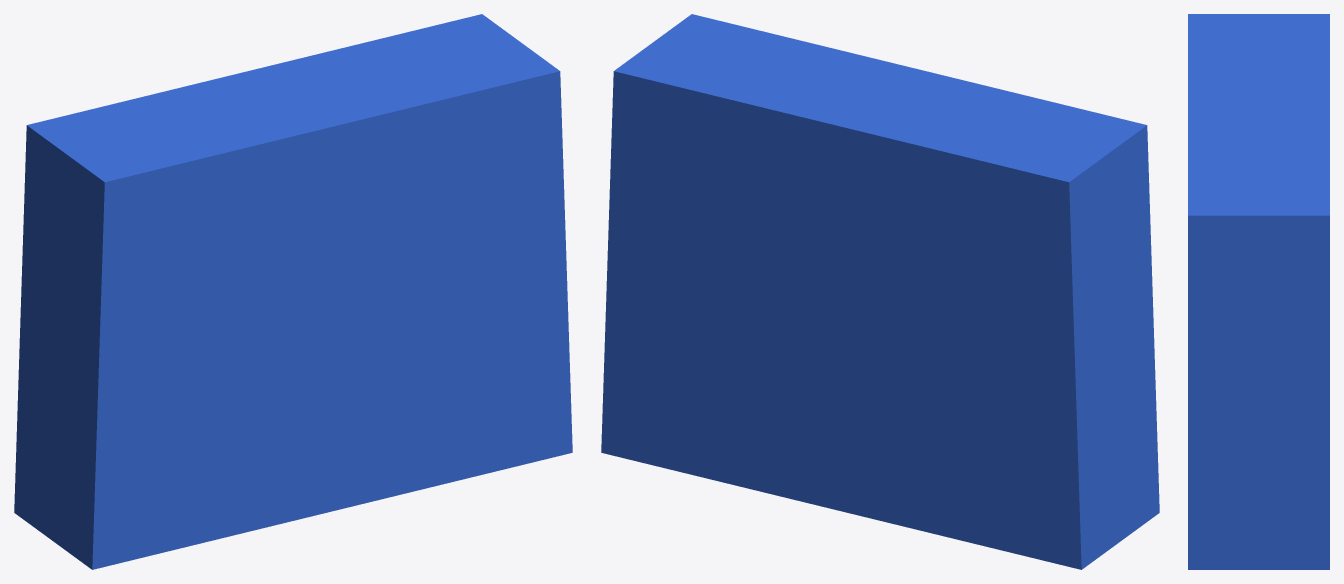
Rendered from Collision_Dresser_1.fbx.
3 views of the same model, side by side, from view 1: azimuth 30°, elevation 25°; view 2: azimuth 150°, elevation 25°; view 3: azimuth 270°, elevation 25° (orthographic). The views are drawn at different scales.
Visible parts, largest first — view 1: UCX_Dresser_1_1; view 2: UCX_Dresser_1_1; view 3: UCX_Dresser_1_1.
Boxes of the visible parts, <box> form: UCX_Dresser_1_1: <box>14,14,572,569</box>; UCX_Dresser_1_1: <box>601,14,1159,569</box>; UCX_Dresser_1_1: <box>1188,14,1329,569</box>.
Bounding box in the file's own units: 147 × 112 × 41.31.
